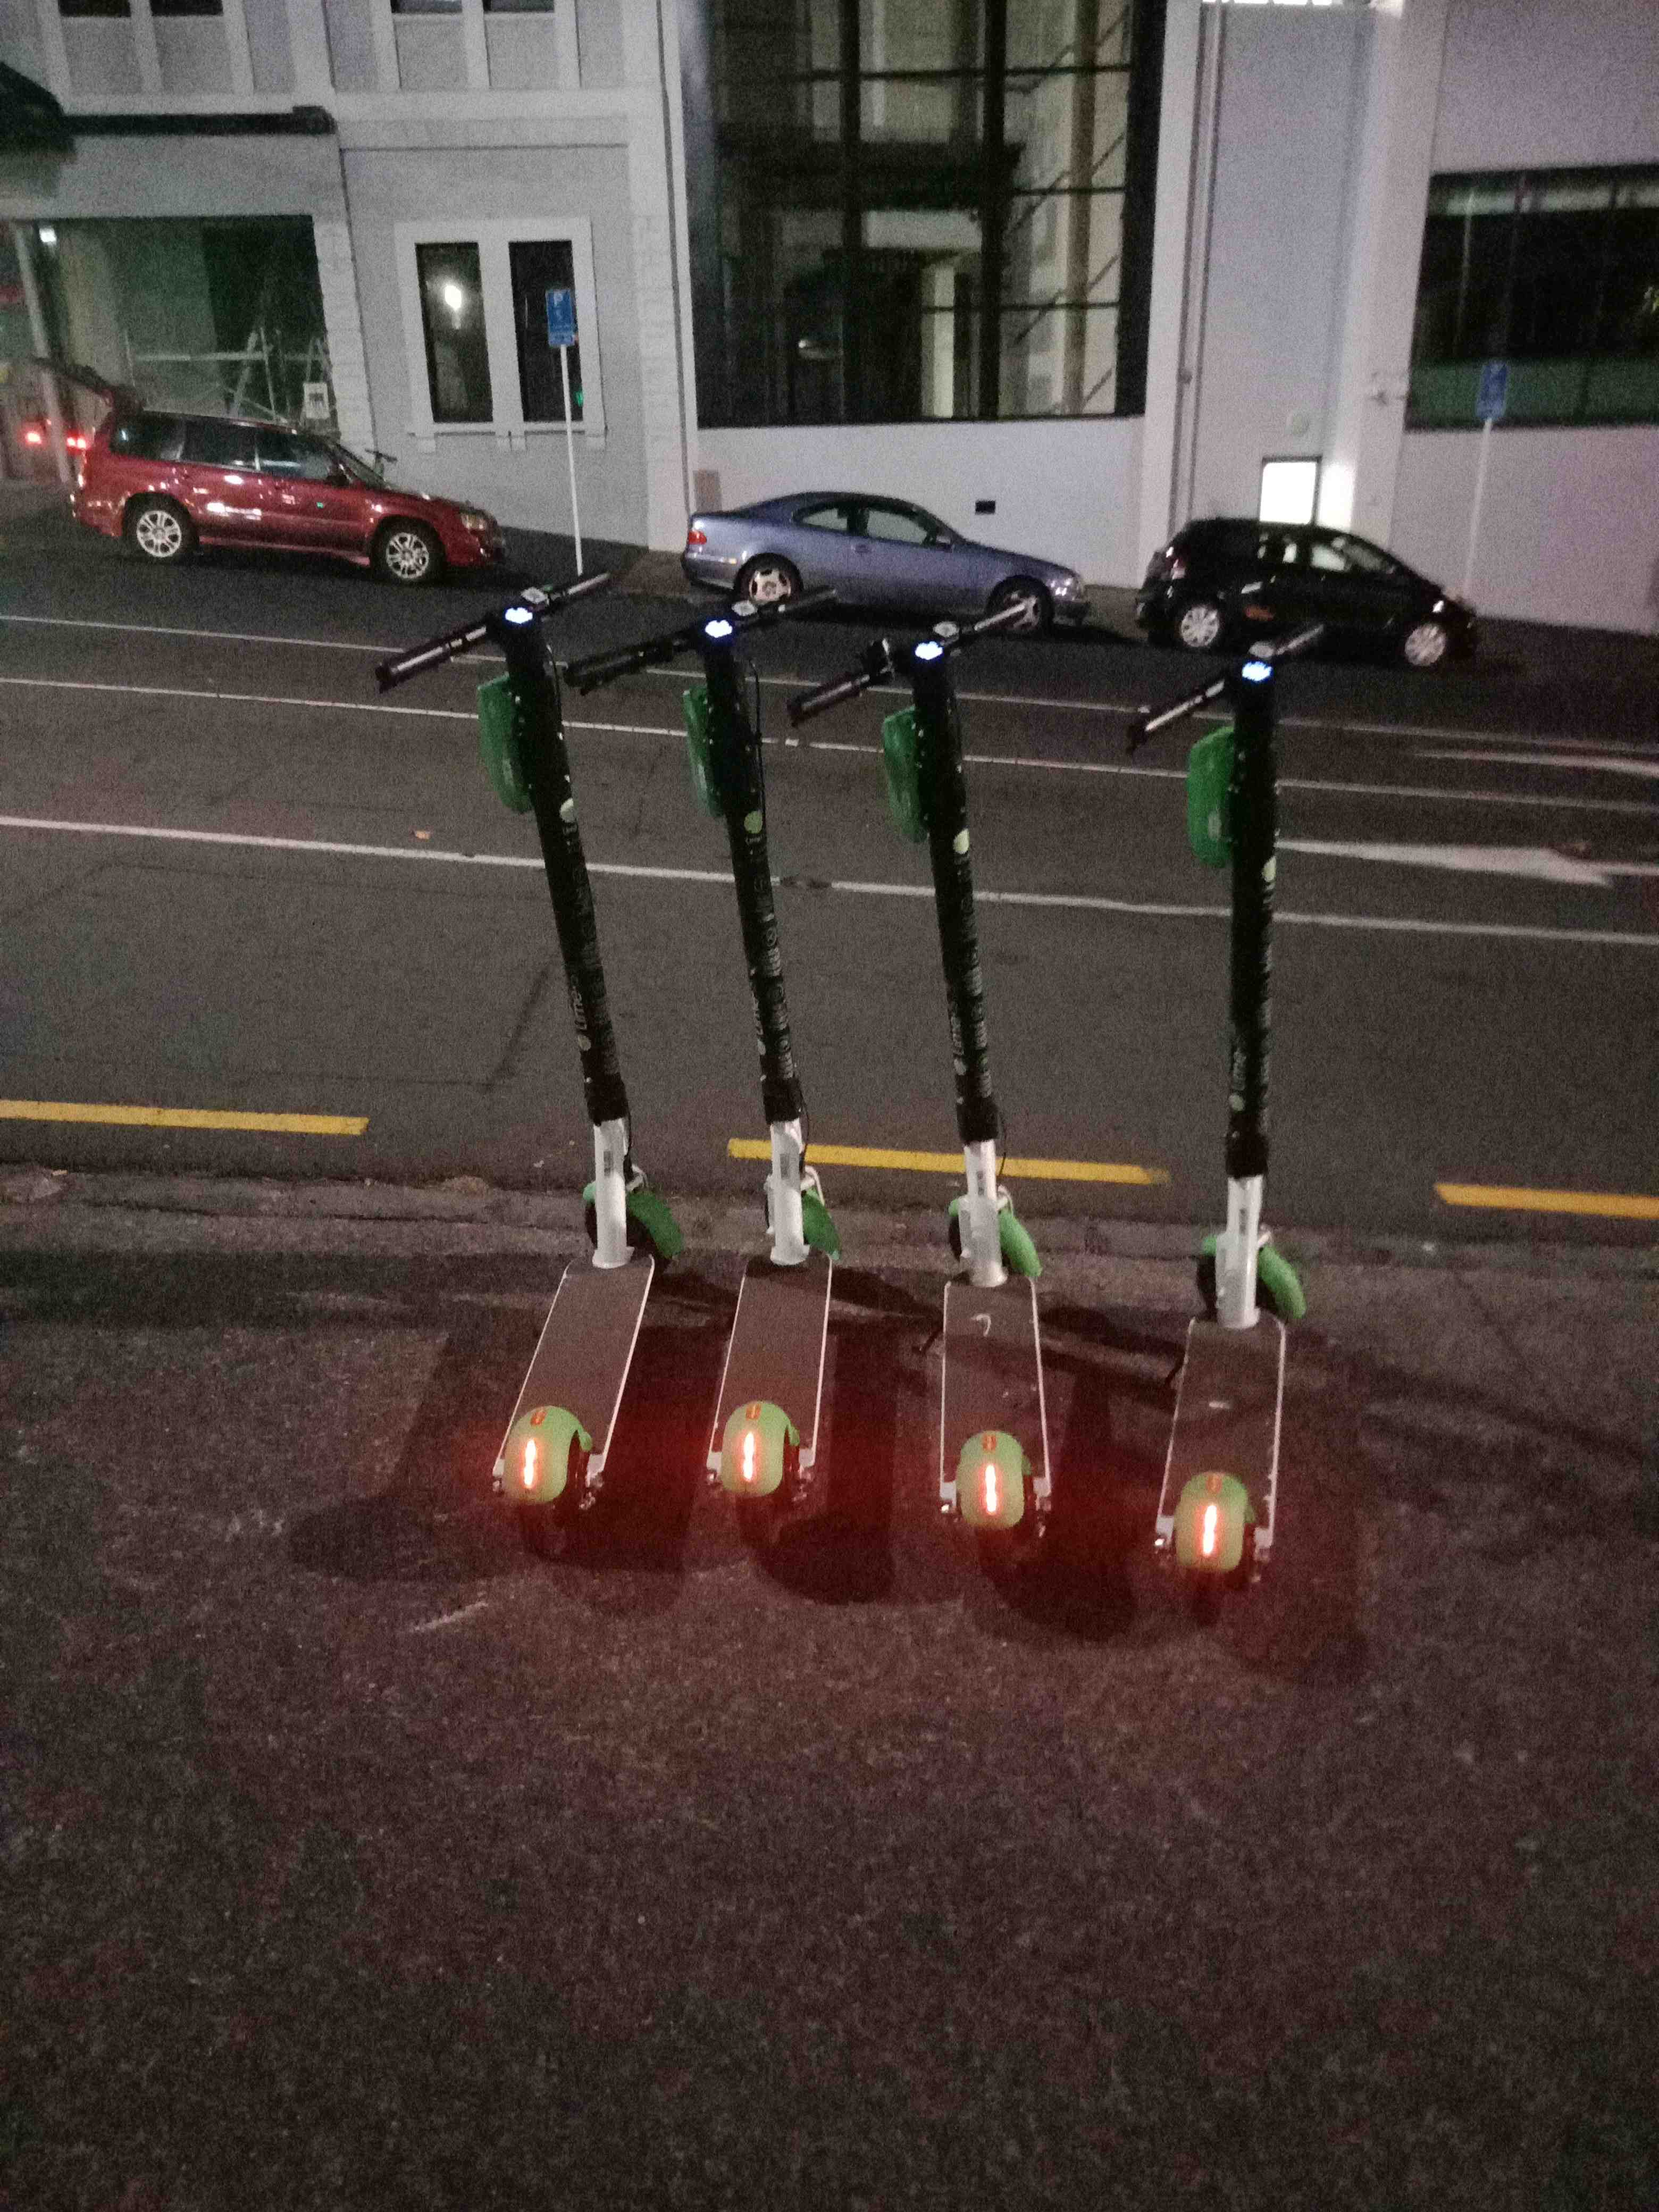too close: (537, 1125, 727, 1315), (894, 1150, 1079, 1343), (714, 1139, 875, 1327)
